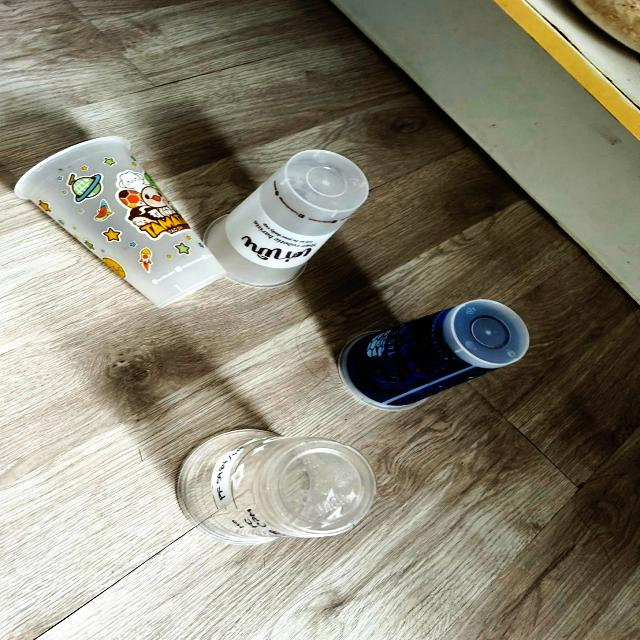Plastic Cup: (28, 146, 228, 309), (178, 429, 376, 545), (203, 154, 368, 286), (344, 309, 490, 406), (18, 137, 133, 181)
